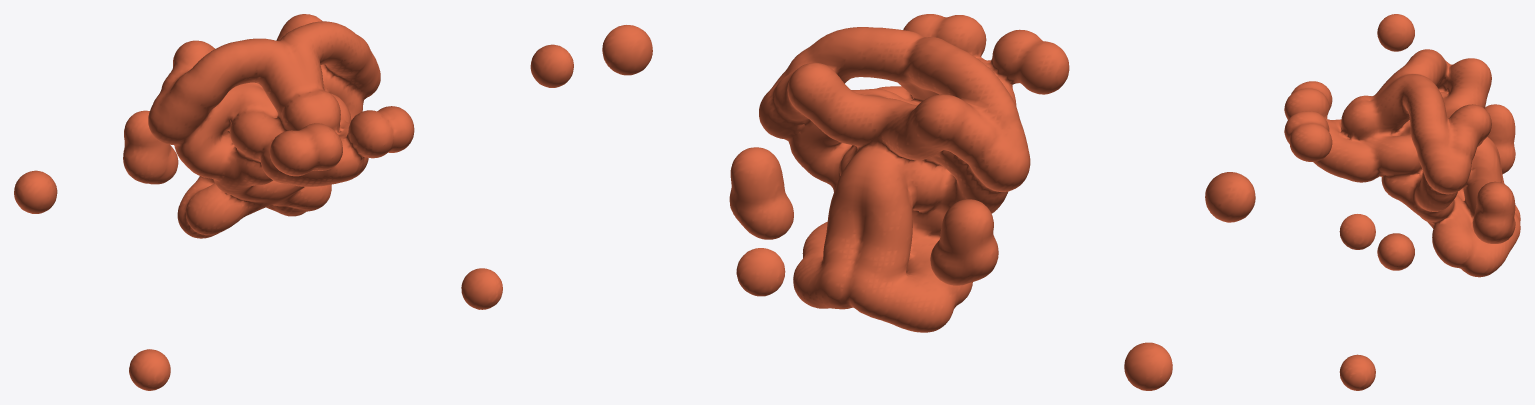
3 views of the same model, side by side, from view 1: azimuth 30°, elevation 25°; view 2: azimuth 150°, elevation 25°; view 3: azimuth 270°, elevation 25° (orthographic). The views are drawn at different scales.
Visible parts, largest first — view 1: GDExample; view 2: GDExample; view 3: GDExample.
Part boxes in pixels (x1=…): GDExample: x1=14, y1=14, x2=573, y2=390; GDExample: x1=602, y1=14, x2=1255, y2=390; GDExample: x1=1284, y1=14, x2=1520, y2=390.
Size of the model in its own units: 14.91 by 7.38 by 6.33.
